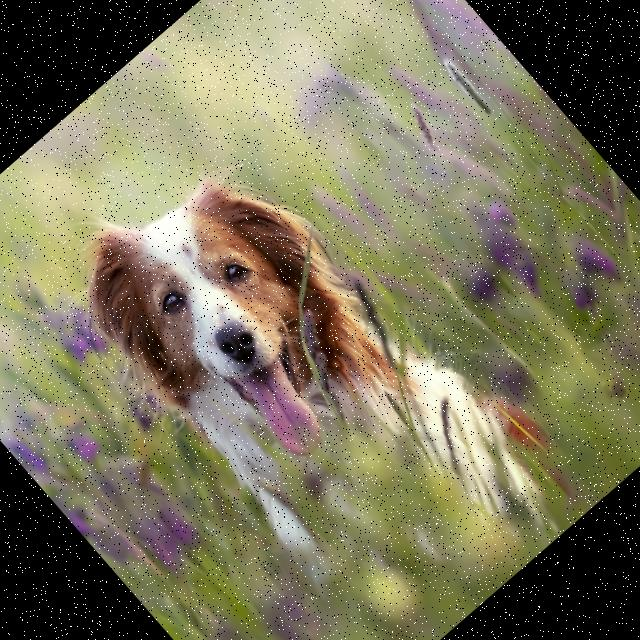Dog: (42, 110, 574, 640)
